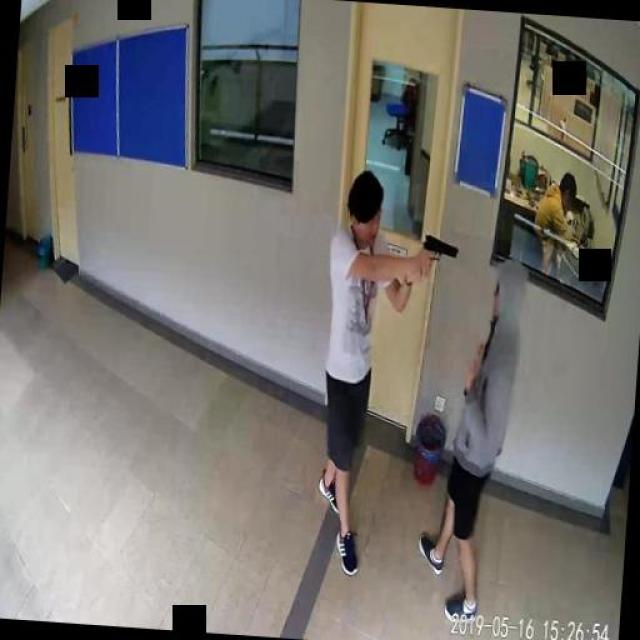gun: (420, 234, 458, 280)
